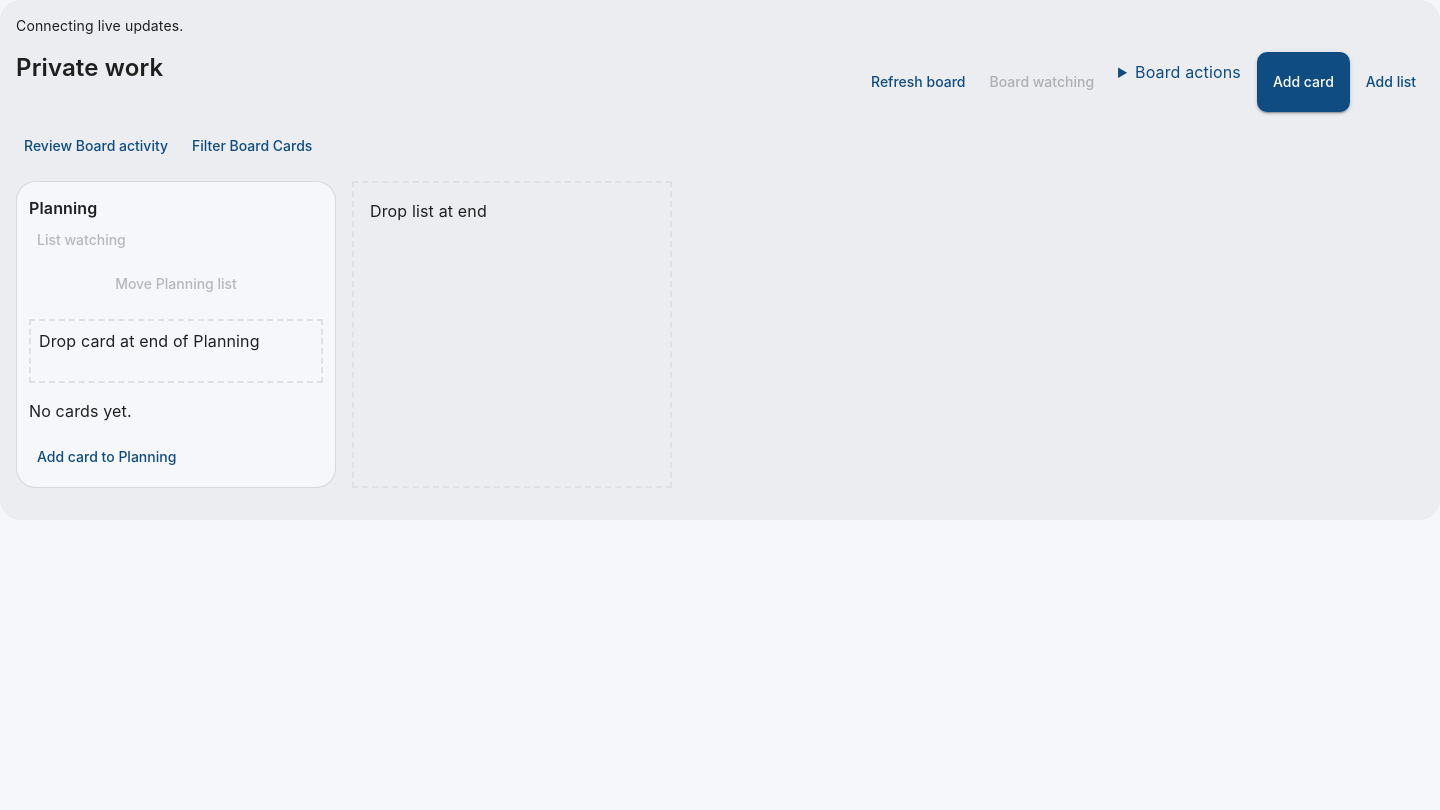
Test: PRD-08-VS-04 Card creation identity › allows explicit entry retry after unavailable identity without exposing a form or writing
This screenshot has width=1440, height=810.
What coordinates should you click on to do the following:
click the button "Add card to Planning"
I would click on:
 (107, 457)
Its box is [29,438,184,475].
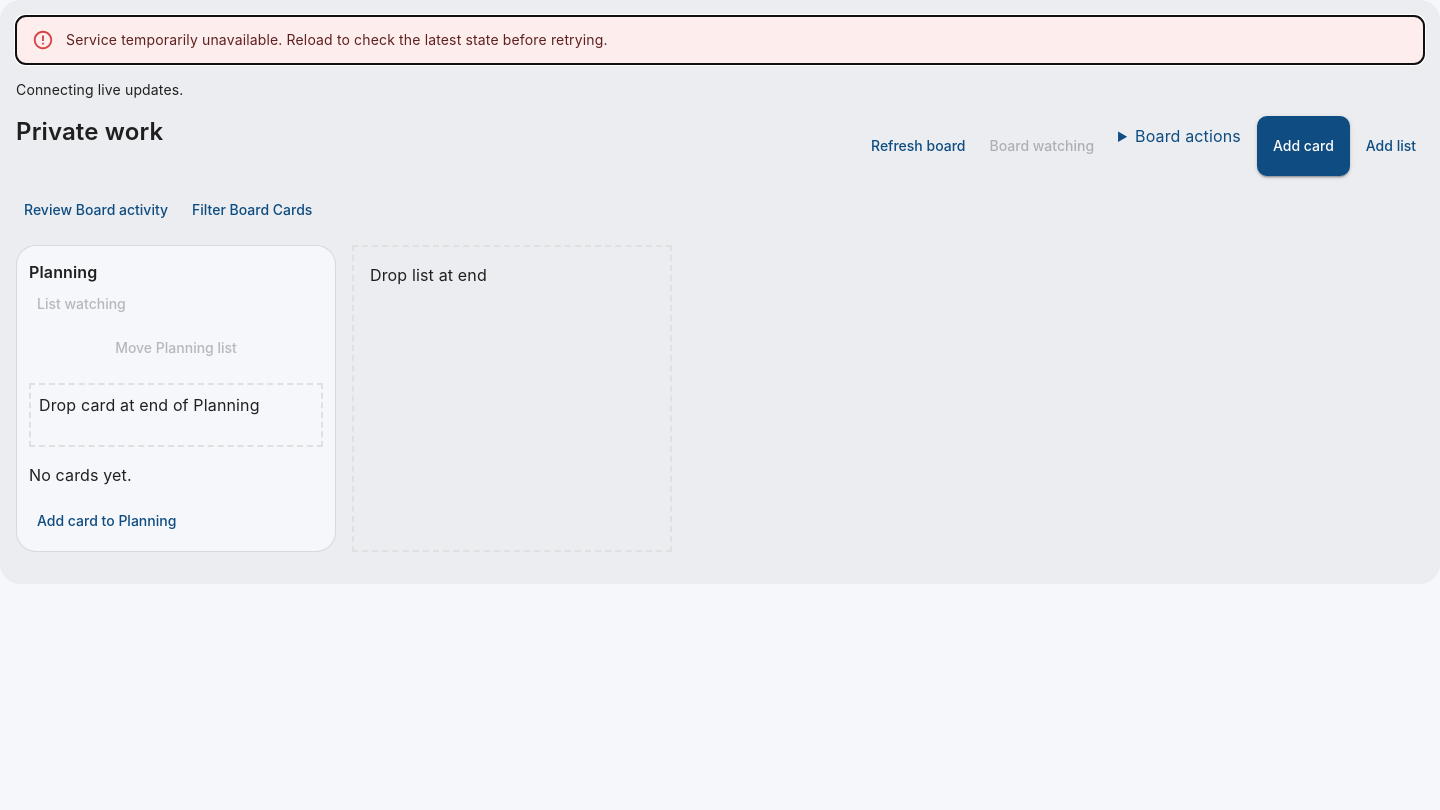
Now the 1st message shows "Service temporarily unavailable", box [66,31,608,48]
What coordinates should you click on to do the following:
click the button "Add card to Planning"
I would click on:
 (107, 521)
Its box is [29,502,184,539].
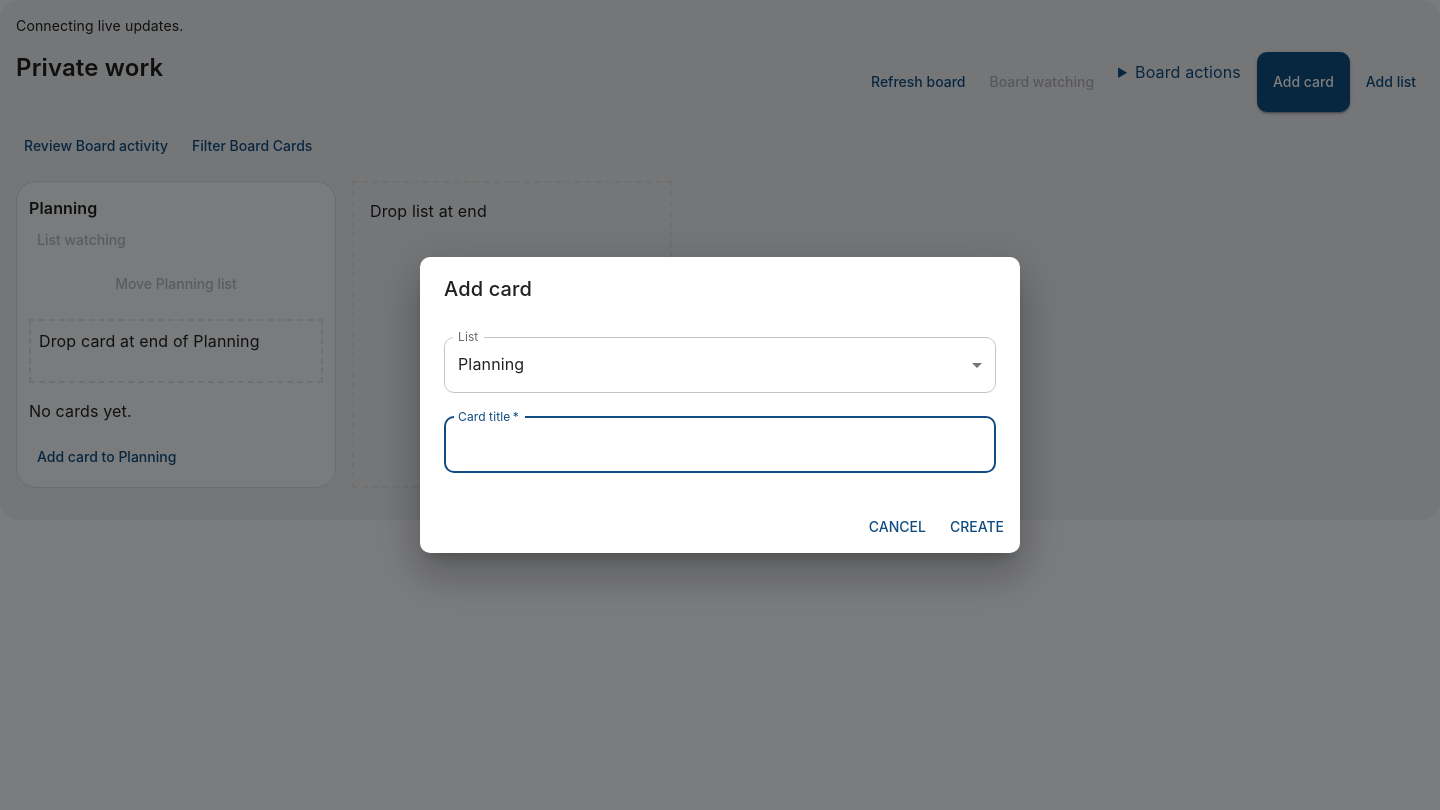
Now the field labelled "Card title *" is shown, box [444,417,996,473]
